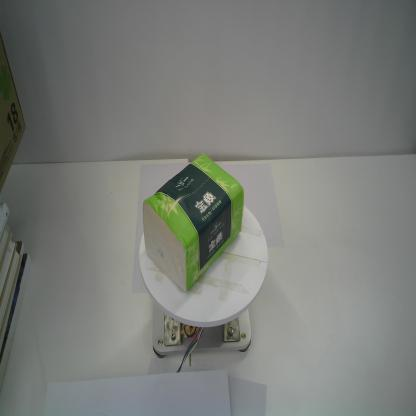Tissue: (140, 151, 244, 293)
